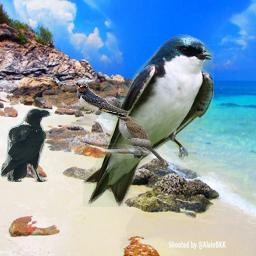Crow: (0, 108, 52, 182)
Cuckoo: (116, 116, 167, 165)
Swallow: (82, 34, 214, 207), (77, 82, 144, 122)
